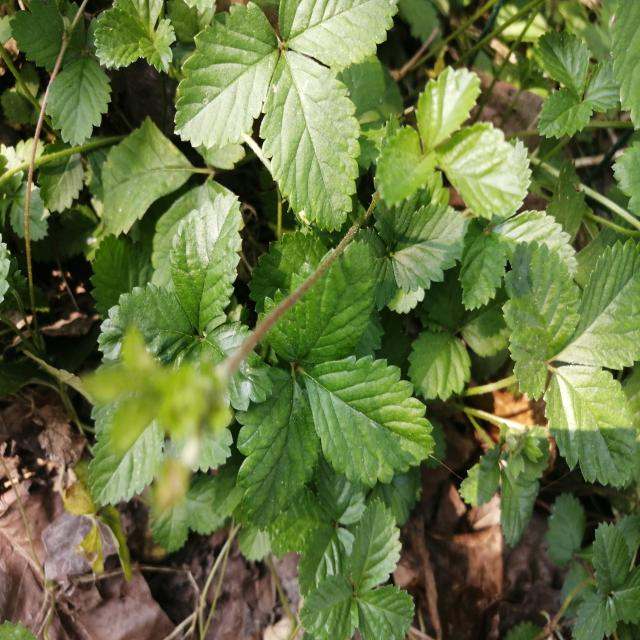Mock_strawberry: (239, 231, 439, 502)
